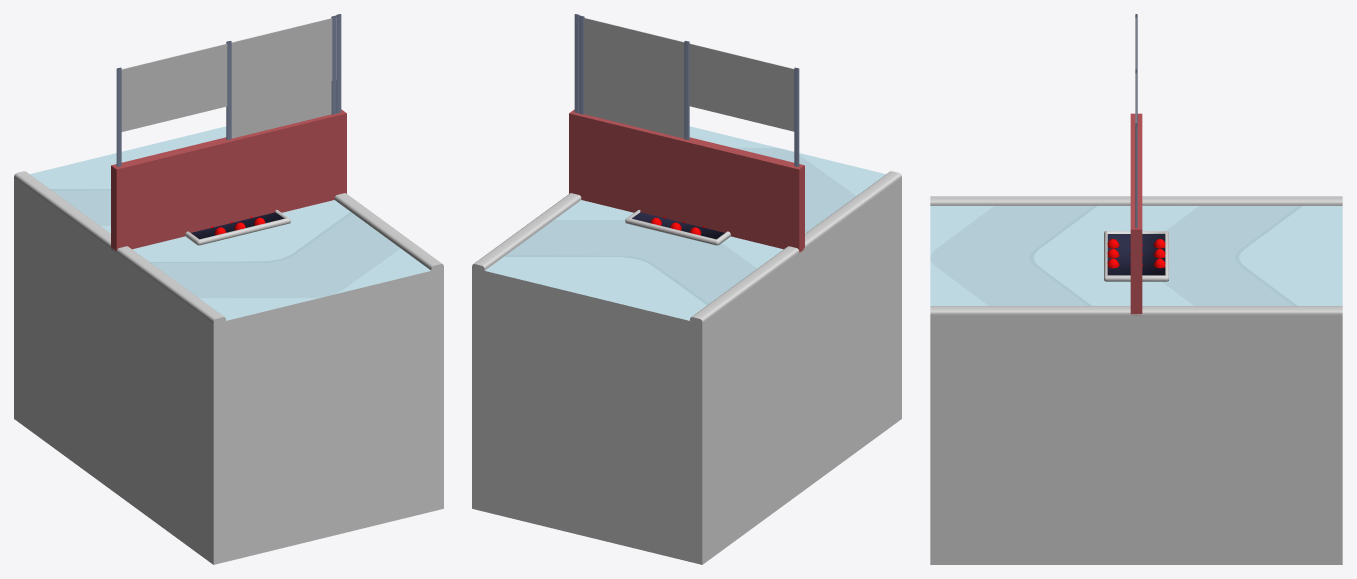
File: gameAssets.fbx
3 views of the same model, side by side, from view 1: azimuth 30°, elevation 25°; view 2: azimuth 150°, elevation 25°; view 3: azimuth 270°, elevation 25° (orthographic). The views are drawn at different scales.
Visible parts, largest first — view 1: yol, duvar, duvar_ag, Multiplier, silindir_alt, direk; view 2: yol, duvar, duvar_ag, Multiplier, silindir_alt, direk; view 3: yol, duvar, silindir_alt, diken.
Boxes of the visible parts, box(x1,y1,x2,y2) form: yol: box(14, 126, 443, 564); duvar: box(111, 109, 346, 252); duvar_ag: box(121, 17, 336, 131); Multiplier: box(226, 15, 336, 140); silindir_alt: box(185, 210, 290, 245); direk: box(116, 14, 341, 166); yol: box(472, 126, 901, 564); duvar: box(569, 109, 804, 252); duvar_ag: box(584, 18, 794, 131); Multiplier: box(579, 15, 689, 140); silindir_alt: box(625, 210, 730, 245); direk: box(574, 14, 799, 166); yol: box(930, 196, 1342, 564); duvar: box(1130, 113, 1142, 315); silindir_alt: box(1104, 231, 1168, 281); diken: box(1107, 239, 1165, 268).
Bounding box in the file's own units: 4 × 7.01 × 6.
